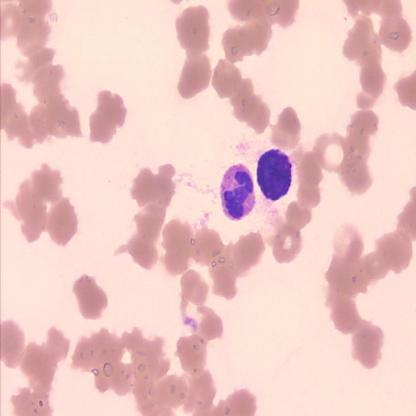Basophil: (256, 146, 294, 203)
